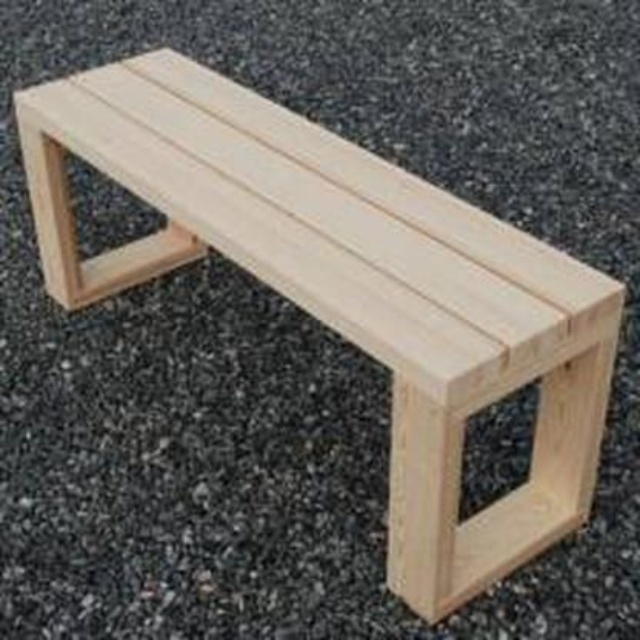obstacle: (9, 42, 629, 628)
